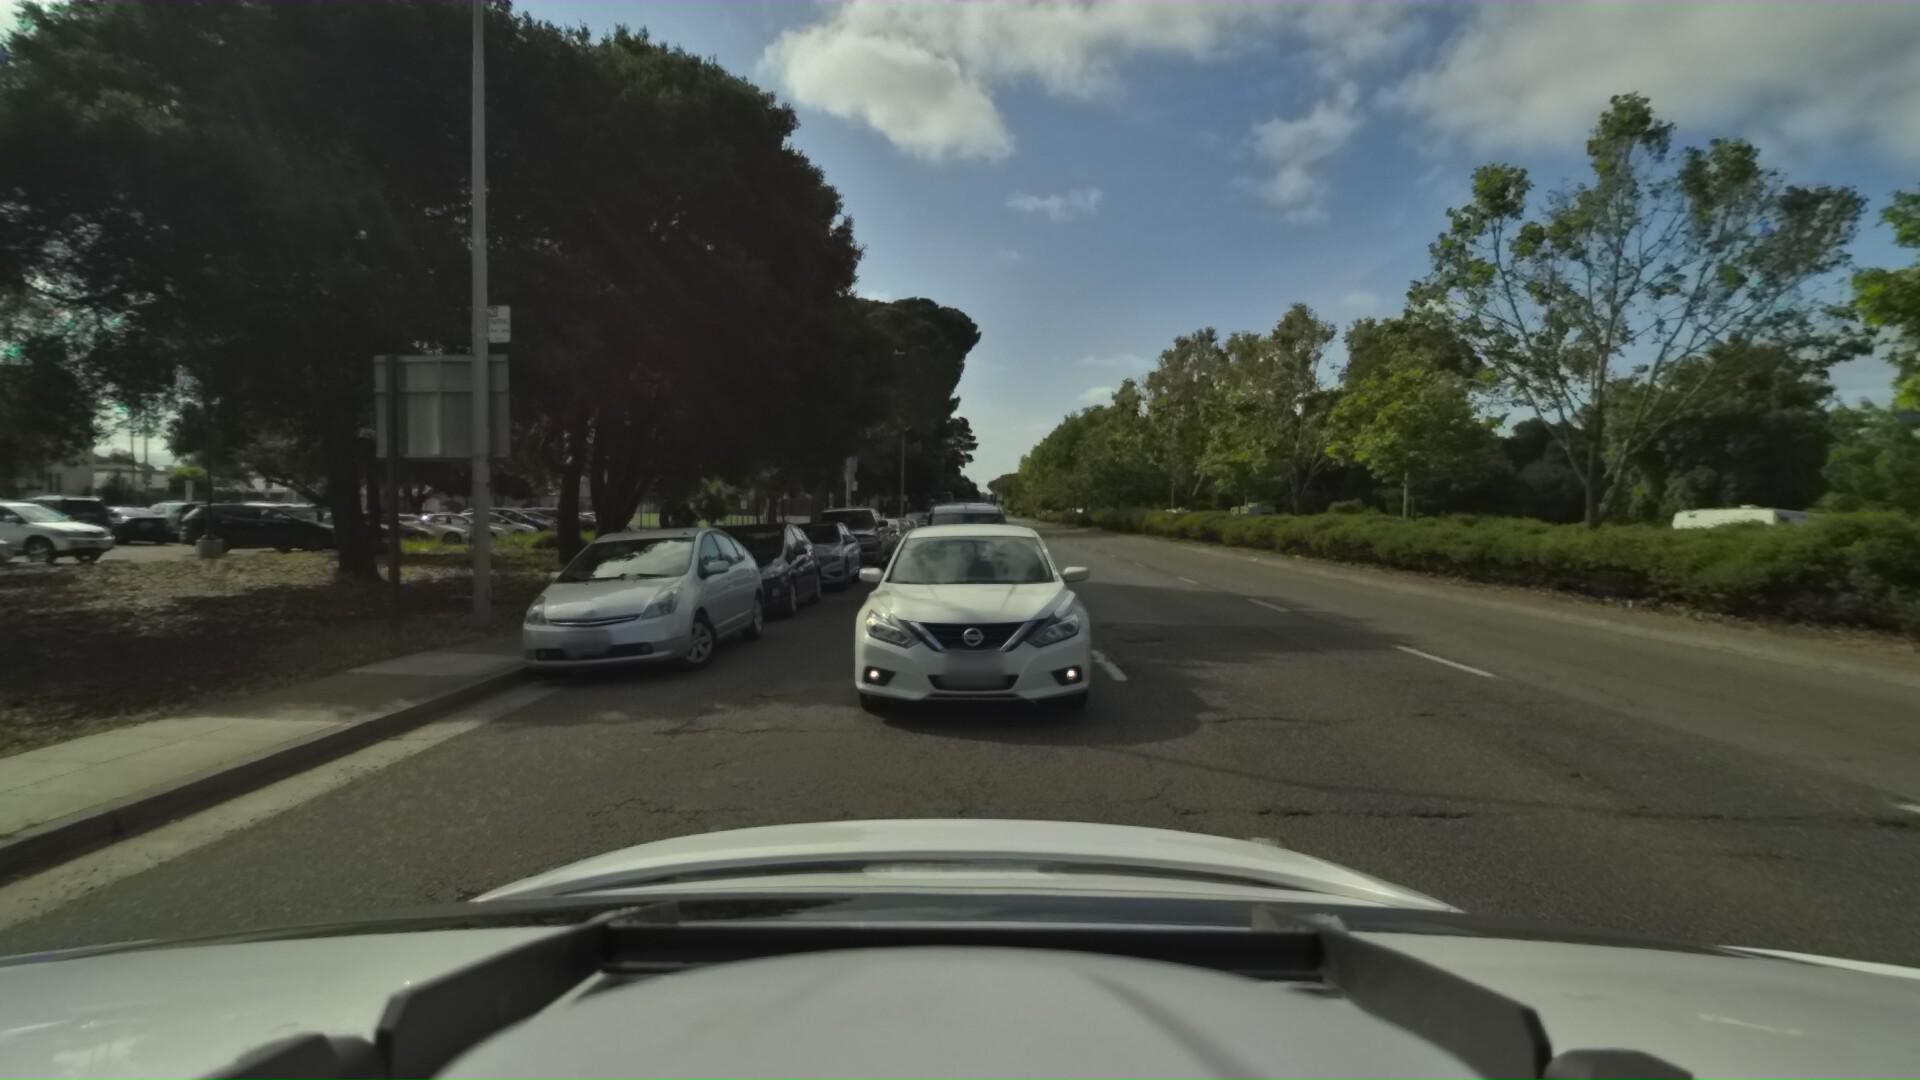bicycle: (634, 495, 721, 604)
car: (832, 516, 1114, 760), (506, 525, 775, 698), (665, 520, 829, 629), (910, 484, 1011, 599), (748, 520, 866, 597), (796, 501, 889, 580), (919, 506, 982, 564), (836, 514, 899, 564), (849, 513, 909, 556), (872, 516, 916, 549), (895, 506, 932, 535)
other_vehicle: (1633, 495, 1849, 578)
